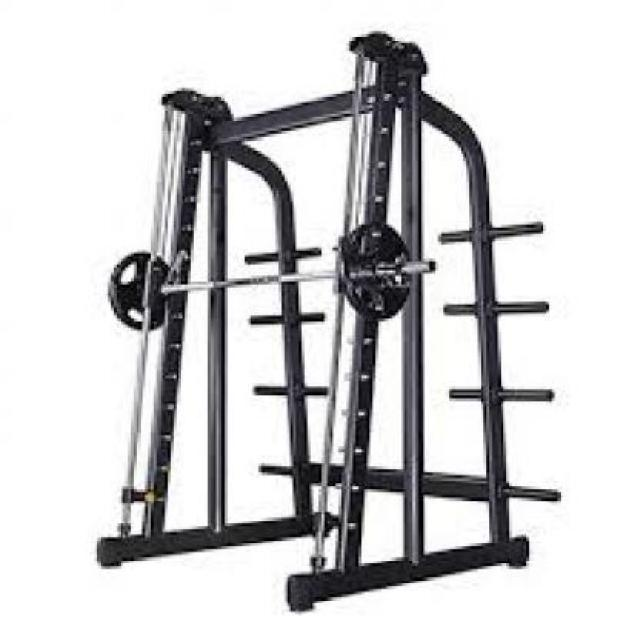smith machine: (98, 32, 564, 614)
